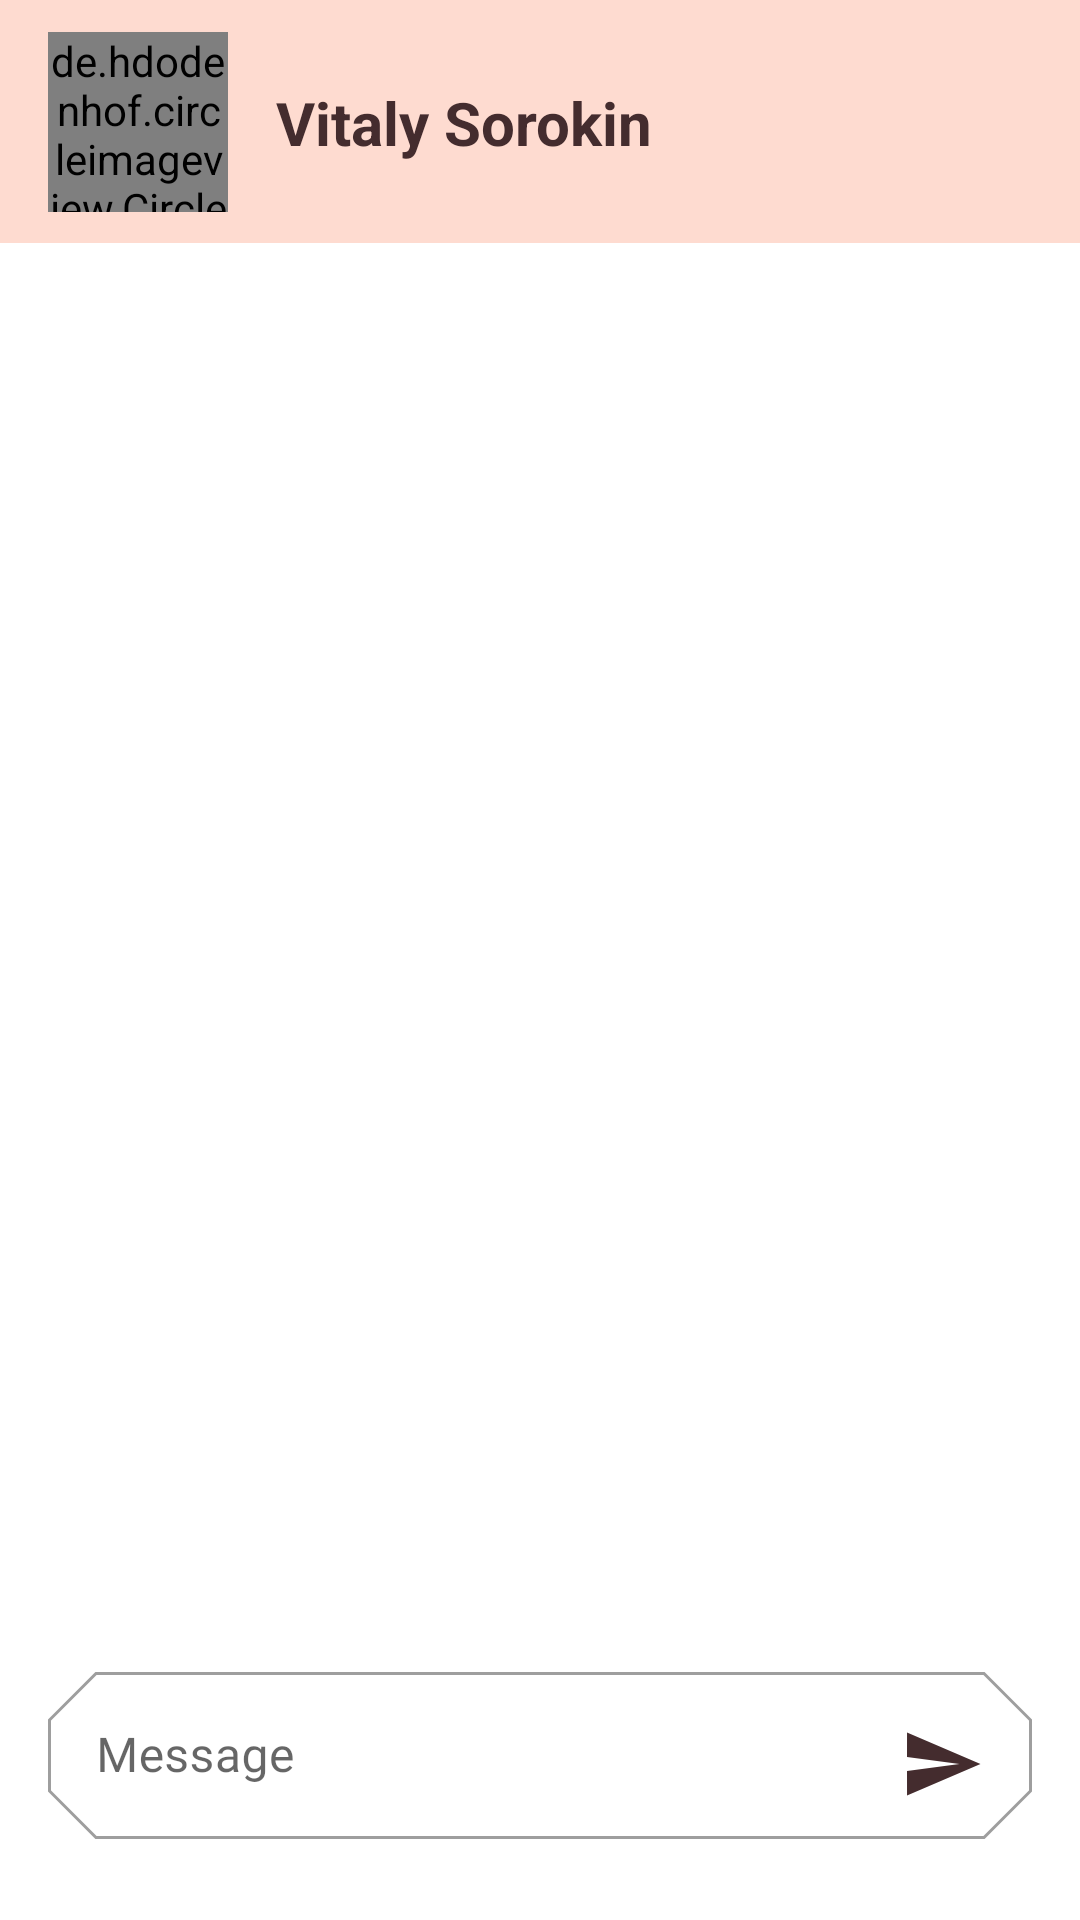

Where icons sit on this 1080 x 1920 app screen, as (x1, y1, x2, y2):
send: (907, 1732, 980, 1796)
